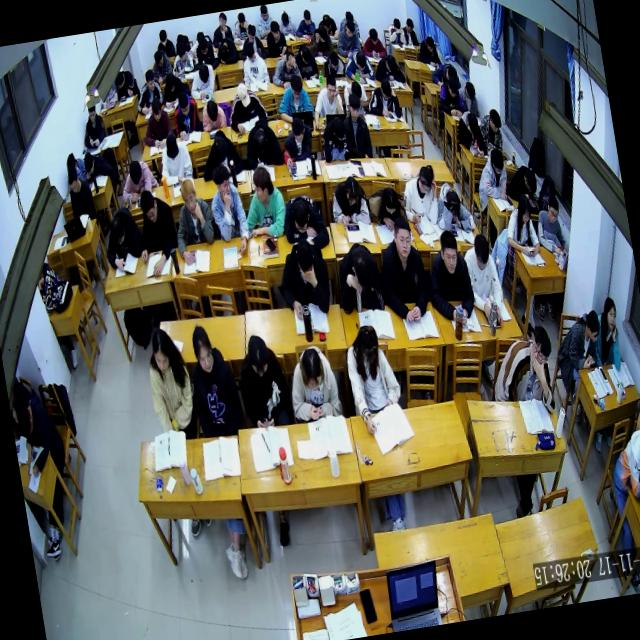bow: (279, 188, 332, 254), (100, 204, 148, 275), (239, 116, 287, 178), (430, 174, 477, 236), (196, 124, 246, 182), (116, 154, 162, 208), (364, 181, 410, 235), (340, 46, 378, 88), (268, 49, 304, 92), (504, 162, 540, 205), (372, 50, 408, 89), (80, 146, 115, 184), (110, 66, 140, 102), (429, 61, 462, 93), (213, 32, 239, 64)
down: (13, 386, 69, 479), (298, 344, 326, 391), (350, 244, 378, 290), (354, 324, 382, 368), (246, 333, 272, 380), (149, 324, 174, 372), (294, 238, 318, 280), (289, 192, 312, 234), (137, 186, 160, 226), (471, 230, 493, 270), (14, 400, 36, 438), (582, 304, 602, 342), (108, 216, 129, 250), (444, 189, 464, 222), (342, 172, 362, 205), (414, 162, 434, 194), (380, 183, 400, 214), (488, 148, 507, 180), (516, 194, 534, 226), (64, 162, 82, 192), (286, 72, 304, 102), (163, 130, 181, 160), (211, 130, 229, 160), (251, 127, 269, 157), (346, 92, 364, 122), (486, 103, 503, 133), (330, 112, 348, 140), (290, 116, 306, 146), (522, 164, 538, 194), (176, 88, 193, 116), (80, 150, 96, 178), (324, 72, 340, 100), (236, 79, 252, 107), (128, 159, 144, 187), (204, 98, 220, 125), (150, 94, 164, 124), (466, 106, 480, 136), (378, 74, 393, 98), (446, 72, 460, 97), (463, 78, 478, 101), (197, 63, 211, 86), (112, 70, 128, 90), (144, 70, 157, 94), (176, 41, 190, 63), (284, 50, 298, 72), (350, 80, 364, 102), (269, 20, 282, 43), (298, 43, 312, 64), (278, 6, 291, 28), (344, 16, 357, 38), (164, 70, 178, 90), (383, 52, 397, 72), (244, 40, 256, 63), (316, 21, 329, 42), (354, 48, 367, 69), (198, 34, 210, 56), (246, 23, 258, 45), (368, 24, 380, 46), (86, 104, 98, 124), (157, 26, 169, 46), (236, 10, 248, 30), (328, 51, 340, 71), (444, 65, 458, 82), (425, 36, 436, 56), (153, 49, 165, 67), (302, 8, 313, 27), (322, 13, 333, 32), (404, 18, 416, 34), (259, 5, 270, 22), (392, 17, 402, 33)
lookup: (190, 323, 218, 377), (436, 227, 462, 277), (390, 216, 414, 260), (178, 177, 200, 218), (600, 292, 620, 330), (545, 193, 562, 223), (217, 12, 229, 31)
sit: (340, 320, 408, 438), (483, 322, 562, 422), (182, 320, 246, 440), (372, 212, 436, 328), (140, 320, 200, 441), (231, 329, 296, 431), (419, 225, 480, 330), (272, 232, 336, 322), (283, 338, 345, 424), (202, 158, 254, 260), (167, 175, 221, 270), (130, 180, 182, 278), (460, 226, 508, 323), (332, 235, 388, 318), (238, 163, 290, 243), (550, 306, 606, 373), (397, 161, 442, 229), (603, 425, 640, 506), (590, 296, 628, 374), (500, 192, 542, 262), (223, 79, 271, 137), (152, 130, 196, 190), (337, 88, 374, 159), (327, 170, 372, 227), (272, 71, 316, 129), (471, 144, 512, 206), (306, 72, 347, 132), (276, 112, 316, 170), (532, 193, 568, 257), (138, 95, 176, 151), (63, 160, 97, 222), (364, 70, 403, 120), (168, 86, 204, 140), (454, 105, 488, 160), (316, 112, 352, 160), (237, 36, 270, 84), (77, 99, 108, 150), (475, 103, 506, 151), (433, 70, 464, 116), (187, 61, 220, 103), (137, 68, 167, 114), (333, 13, 363, 58), (342, 76, 372, 120), (190, 30, 220, 70), (237, 22, 267, 62), (305, 20, 335, 60), (198, 95, 228, 134), (262, 18, 290, 59), (359, 20, 388, 59), (158, 69, 186, 108), (292, 39, 320, 78), (168, 36, 195, 74), (208, 12, 236, 48), (149, 47, 174, 84), (292, 6, 318, 41), (320, 46, 348, 78), (416, 30, 442, 64), (230, 8, 253, 46), (253, 4, 277, 40), (457, 80, 480, 116), (154, 24, 177, 56), (385, 12, 407, 44), (276, 6, 298, 36), (320, 8, 339, 38), (402, 17, 419, 48)
